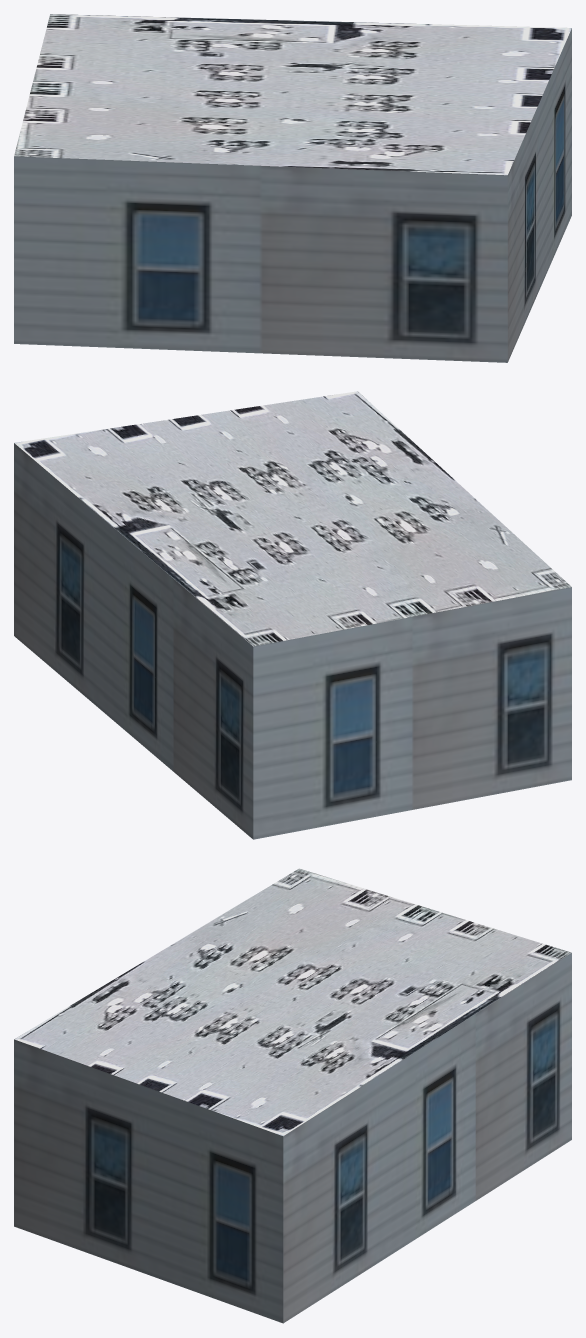
File: ResTex__832.fbx
The picture shows the model from 3 angles, top to bottom: view 1: azimuth 30°, elevation 25°; view 2: azimuth 150°, elevation 25°; view 3: azimuth 270°, elevation 25°; orthographic projection. The views are drawn at different scales.
Parts seen in each view (by area): view 1: CityEngineMaterial_18_m, CityEngineMaterial_8_m; view 2: CityEngineMaterial_18_m, CityEngineMaterial_8_m; view 3: CityEngineMaterial_18_m, CityEngineMaterial_8_m.
Boxes of the visible parts, x1=… form: CityEngineMaterial_18_m: x1=14, y1=28, x2=571, y2=362; CityEngineMaterial_8_m: x1=14, y1=14, x2=571, y2=175; CityEngineMaterial_18_m: x1=14, y1=443, x2=571, y2=839; CityEngineMaterial_8_m: x1=14, y1=391, x2=571, y2=646; CityEngineMaterial_18_m: x1=14, y1=953, x2=571, y2=1323; CityEngineMaterial_8_m: x1=14, y1=868, x2=571, y2=1136.
Bounding box in the file's own units: 9.2 × 3 × 8.1.
2 materials, 2 textured.
